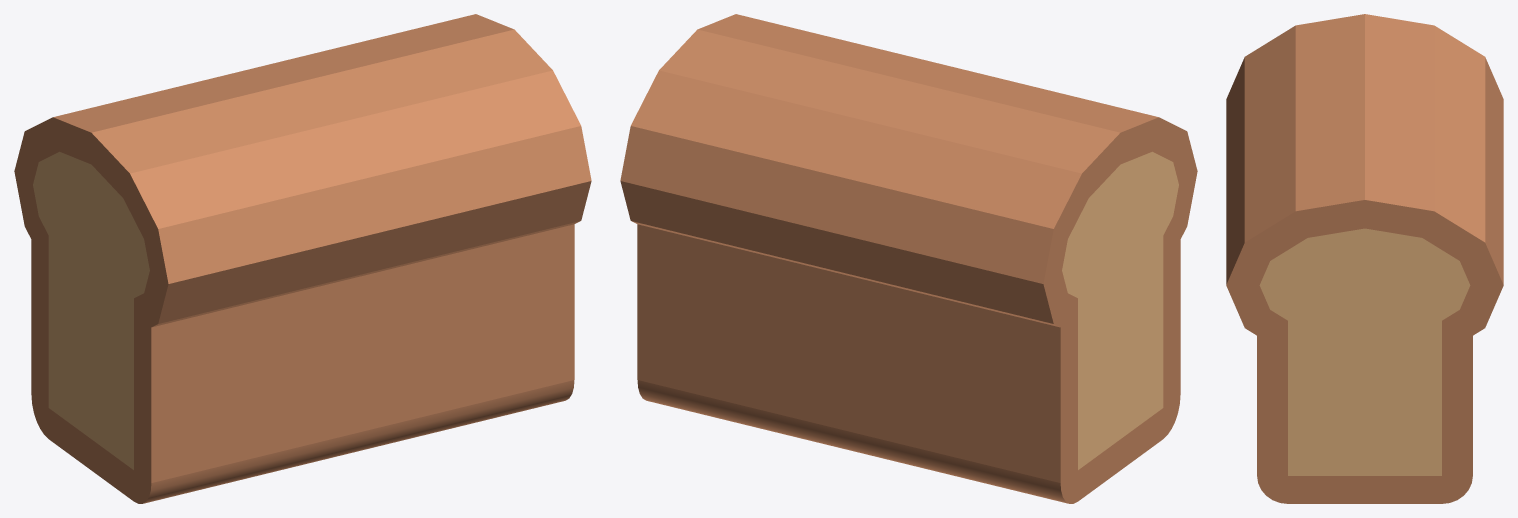
Rendered from loaf.fbx.
3 views of the same model, side by side, from view 1: azimuth 30°, elevation 25°; view 2: azimuth 150°, elevation 25°; view 3: azimuth 270°, elevation 25° (orthographic). The views are drawn at different scales.
Visible parts, largest first — view 1: loaf; view 2: loaf; view 3: loaf.
Part boxes in pixels (<box>): loaf: <box>14,14,591,503</box>; loaf: <box>620,14,1197,503</box>; loaf: <box>1226,14,1503,503</box>.
Size of the model in its own units: 5.8 by 4.42 by 3.66.
